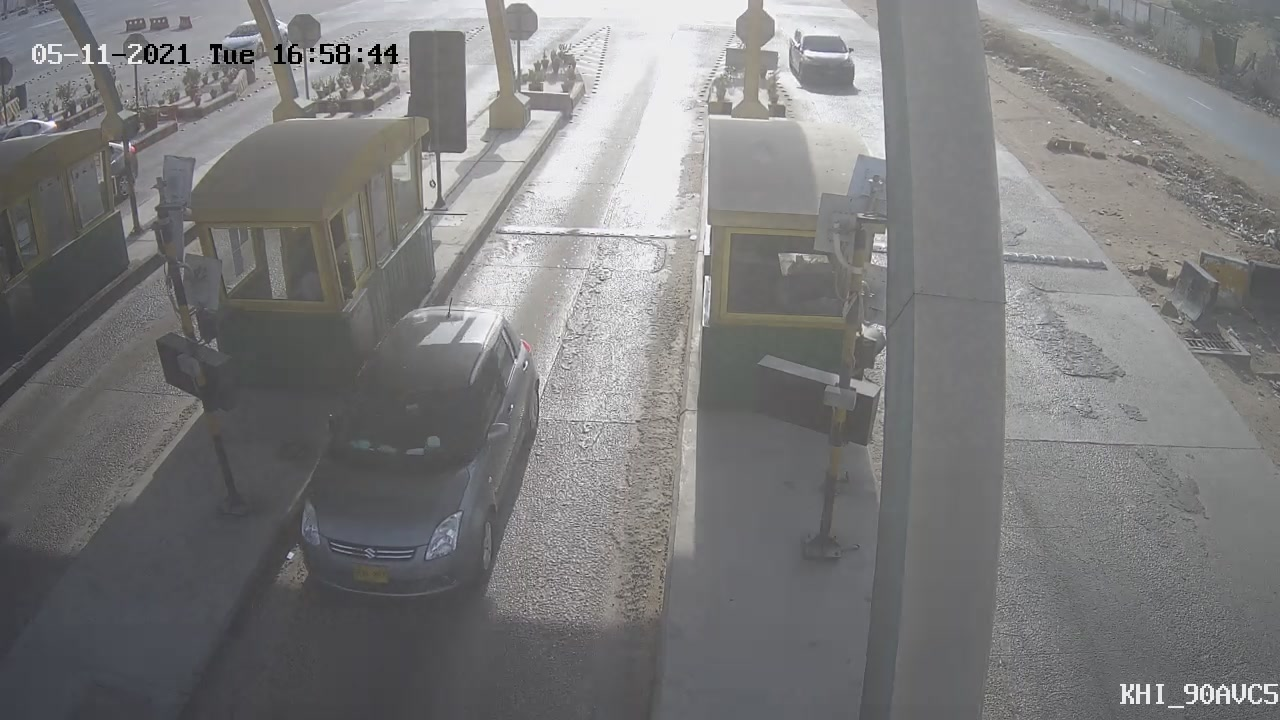F1: (274, 283, 564, 621)
